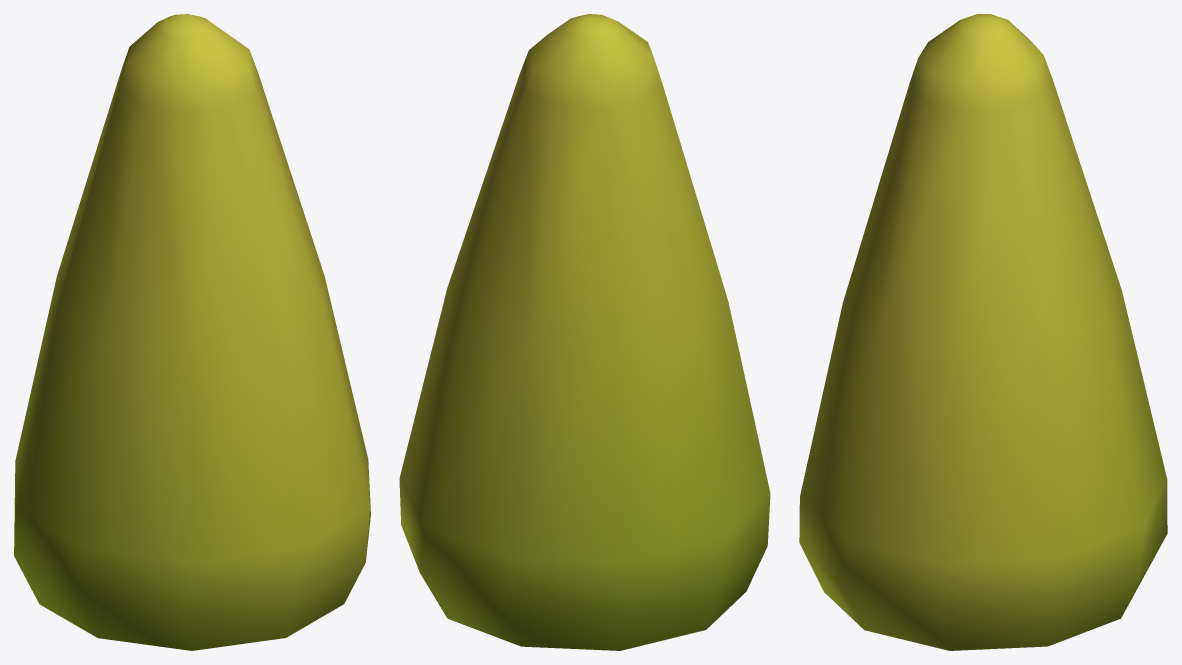
File: SM_Fir_02.fbx
3 renders of one model, left to right at view 1: azimuth 30°, elevation 25°; view 2: azimuth 150°, elevation 25°; view 3: azimuth 270°, elevation 25°, orthographic.
Visible parts, largest first — view 1: SM_Fir_02; view 2: SM_Fir_02; view 3: SM_Fir_02.
Boxes of the visible parts, x1=… form: SM_Fir_02: x1=14, y1=14, x2=370, y2=650; SM_Fir_02: x1=399, y1=14, x2=770, y2=650; SM_Fir_02: x1=799, y1=14, x2=1167, y2=650.
Size of the model in its own units: 230 by 396 by 234.
